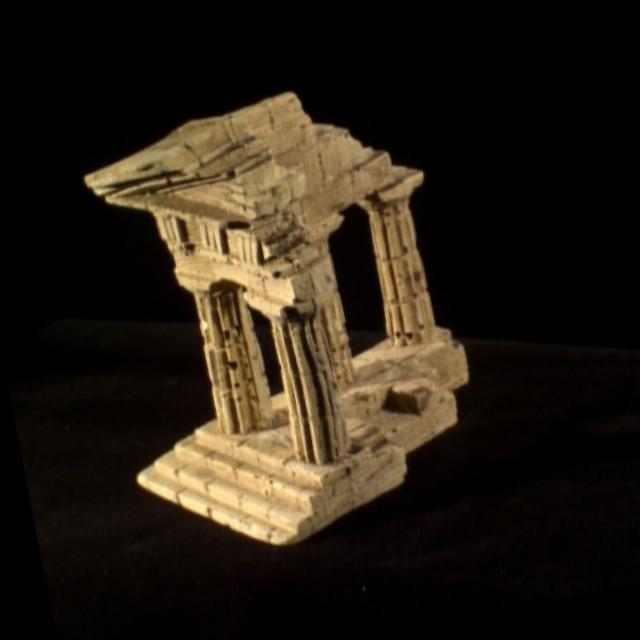Instance-Segmentation: (84, 94, 466, 545)
